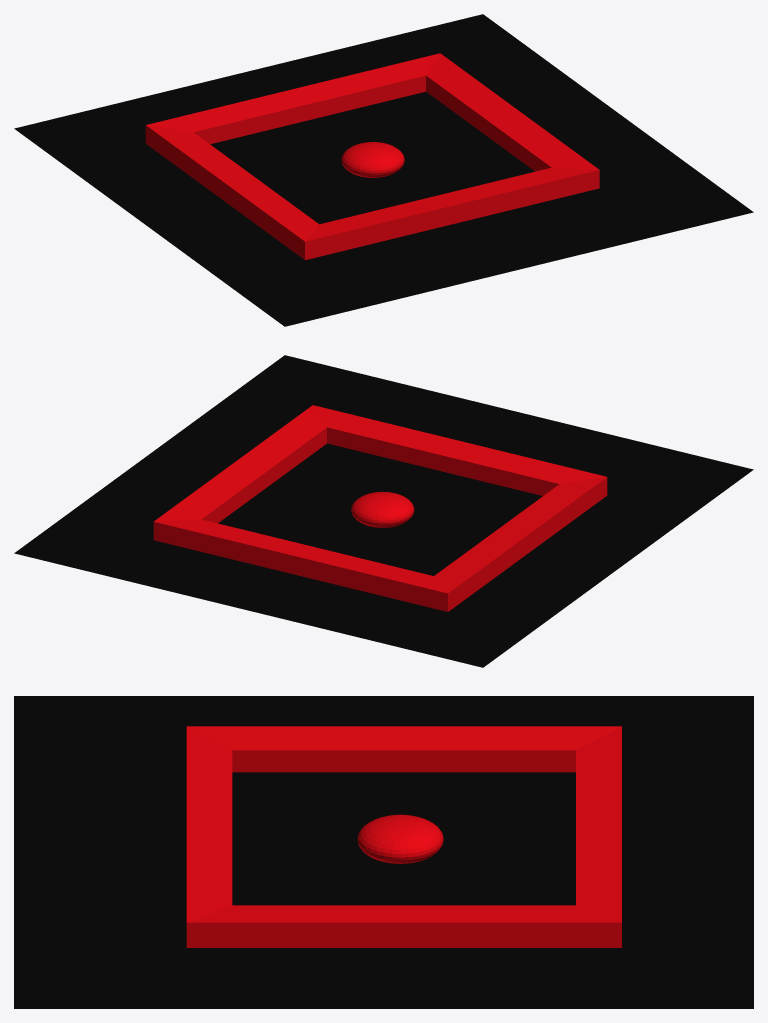
File: Figura3.fbx
The picture shows the model from 3 angles, top to bottom: view 1: azimuth 30°, elevation 25°; view 2: azimuth 150°, elevation 25°; view 3: azimuth 270°, elevation 25°; orthographic projection. The views are drawn at different scales.
Visible parts, largest first — view 1: Sphere.002; view 2: Sphere.002; view 3: Sphere.002.
Part boxes in pixels (box(x1,y1,x2,y2)): Sphere.002: box(14, 14, 753, 326); Sphere.002: box(14, 355, 753, 667); Sphere.002: box(14, 696, 753, 1008).
Bounding box in the file's own units: 388 × 19.29 × 388.
